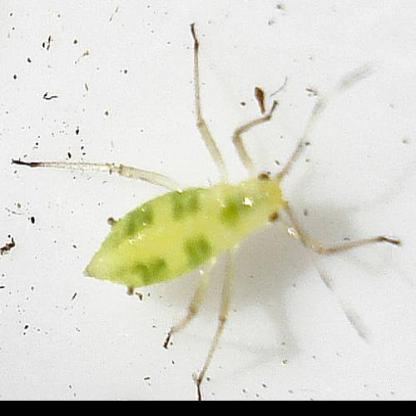aphid: (46, 50, 400, 372)
